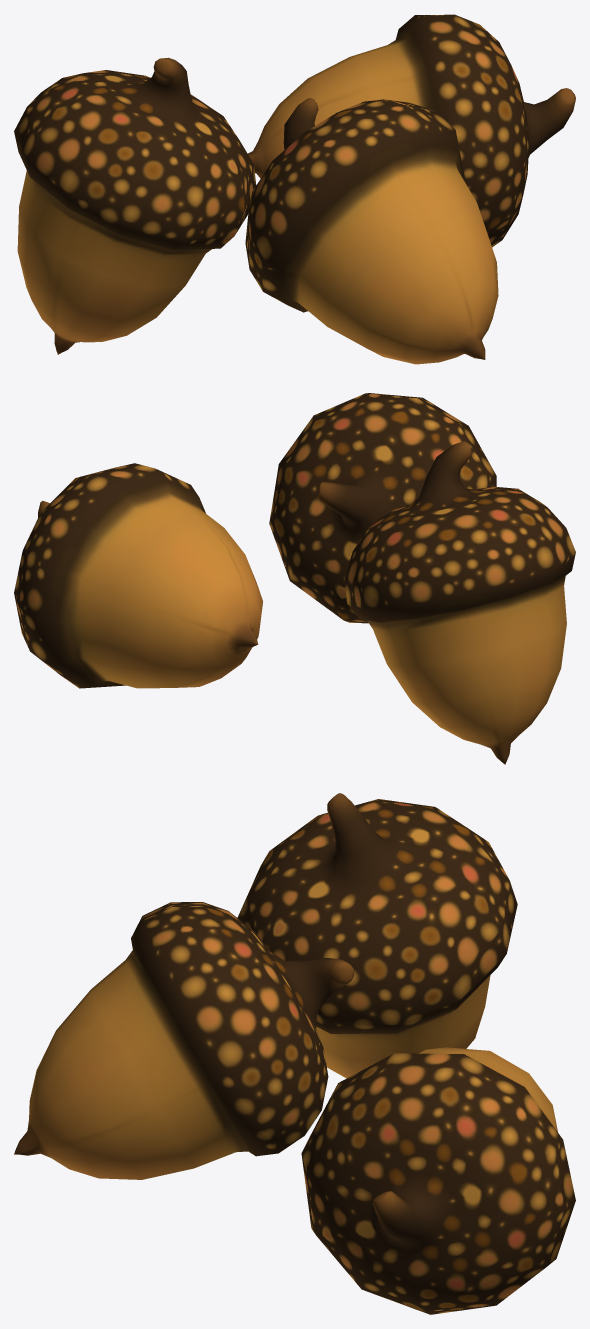
File: Nuts.fbx
3 renders of one model, top to bottom at view 1: azimuth 30°, elevation 25°; view 2: azimuth 150°, elevation 25°; view 3: azimuth 270°, elevation 25°, orthographic. The views are drawn at different scales.
Visible parts, largest first — view 1: Fruit02, Fruit03, Fruit01; view 2: Fruit03, Fruit01, Fruit02; view 3: Fruit02, Fruit01, Fruit03.
Boxes of the visible parts, bbox=[...] form: Fruit02: bbox=[245, 98, 498, 364]; Fruit03: bbox=[14, 57, 256, 354]; Fruit01: bbox=[248, 14, 575, 247]; Fruit03: bbox=[345, 441, 575, 764]; Fruit01: bbox=[14, 463, 262, 688]; Fruit02: bbox=[269, 393, 496, 623]; Fruit02: bbox=[14, 902, 354, 1179]; Fruit01: bbox=[301, 1047, 575, 1314]; Fruit03: bbox=[237, 793, 517, 1078].
Size of the model in its own units: 0.00946 by 0.00502 by 0.00755.
Materials: 1 (1 with a texture image).
